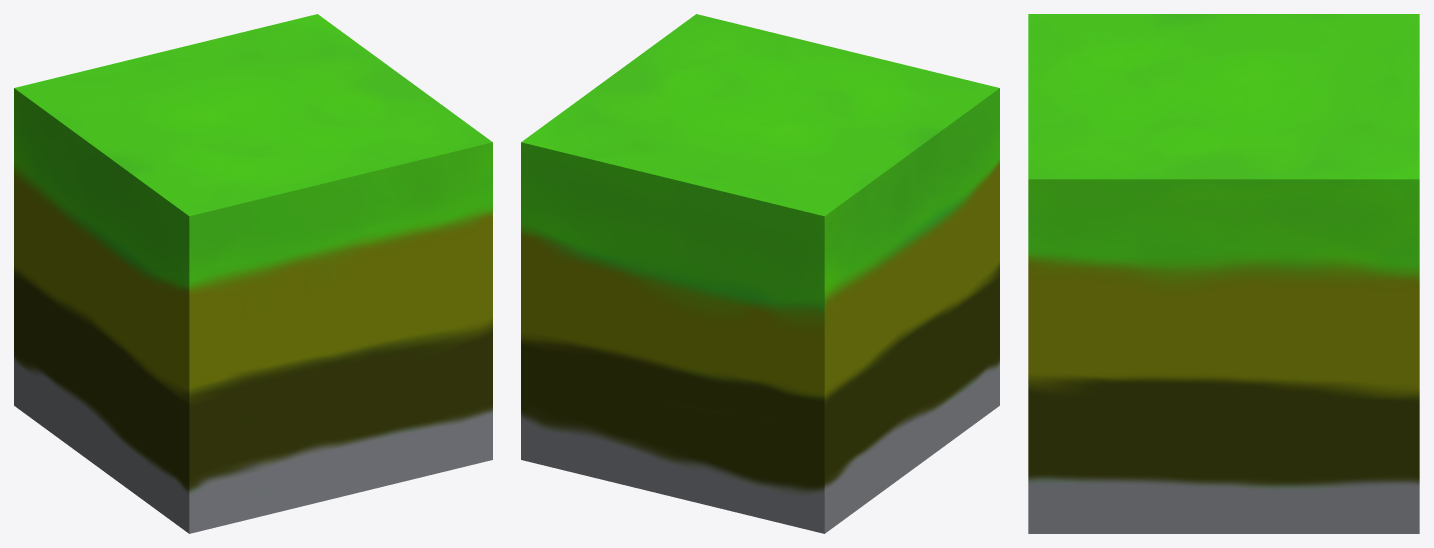
Rendered from grass.glb.
The picture shows the model from 3 angles, left to right: view 1: azimuth 30°, elevation 25°; view 2: azimuth 150°, elevation 25°; view 3: azimuth 270°, elevation 25°; orthographic projection. The views are drawn at different scales.
Visible parts, largest first — view 1: Block_Grass; view 2: Block_Grass; view 3: Block_Grass.
Boxes of the visible parts, x1,y1,x2,y2 form: Block_Grass: (14, 14, 492, 533); Block_Grass: (521, 14, 999, 533); Block_Grass: (1028, 14, 1419, 533).
Bounding box in the file's own units: 2 × 2 × 2.
Materials: 1 (1 with a texture image).
